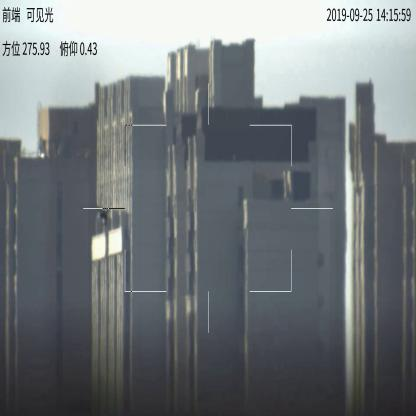uav: (98, 207, 109, 224)
